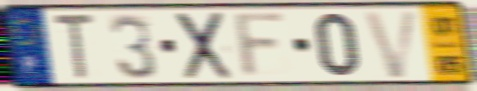0: (313, 11, 362, 79)
3: (108, 11, 159, 82)
F: (232, 9, 290, 81)
T: (50, 12, 98, 82)
V: (360, 8, 422, 81)
X: (174, 9, 234, 82)
